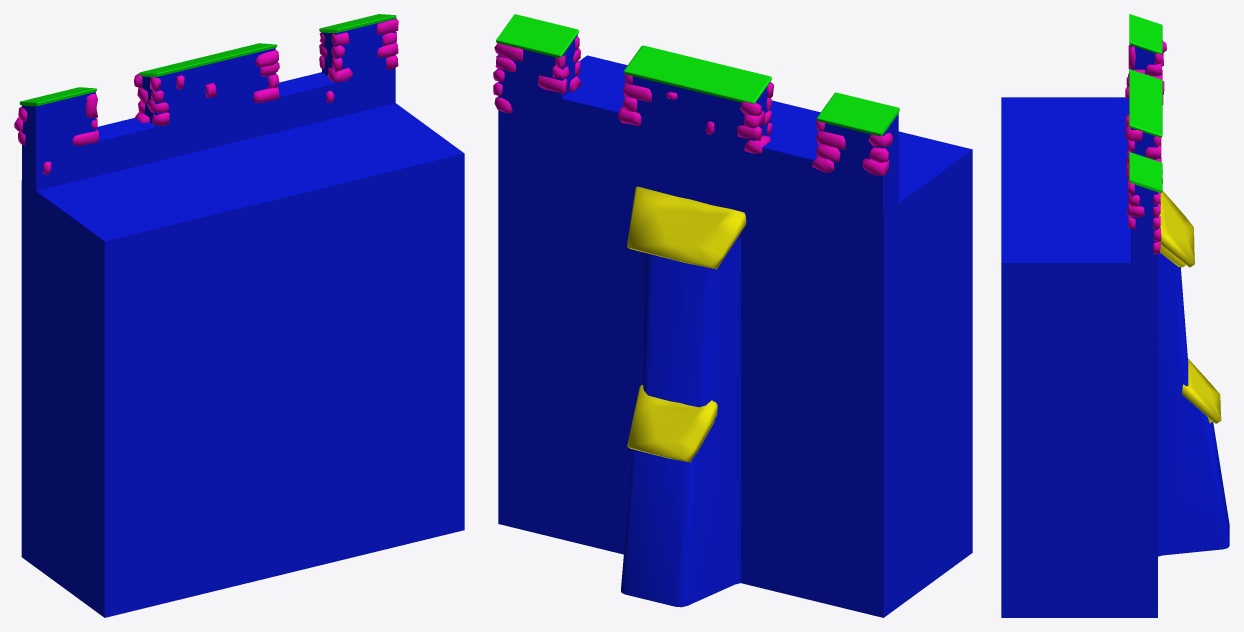
File: Wall4.fbx
3 views of the same model, side by side, from view 1: azimuth 30°, elevation 25°; view 2: azimuth 150°, elevation 25°; view 3: azimuth 270°, elevation 25° (orthographic). The views are drawn at different scales.
Parts seen in each view (by area): view 1: MediecalWall4; view 2: MediecalWall4; view 3: MediecalWall4.
Part boxes in pixels (box(x1,y1,x2,y2)): MediecalWall4: box(14, 14, 464, 617); MediecalWall4: box(493, 14, 972, 617); MediecalWall4: box(1001, 14, 1229, 617).
Size of what is drawn, in the model's own units: 5.12 by 6.18 by 2.91.
